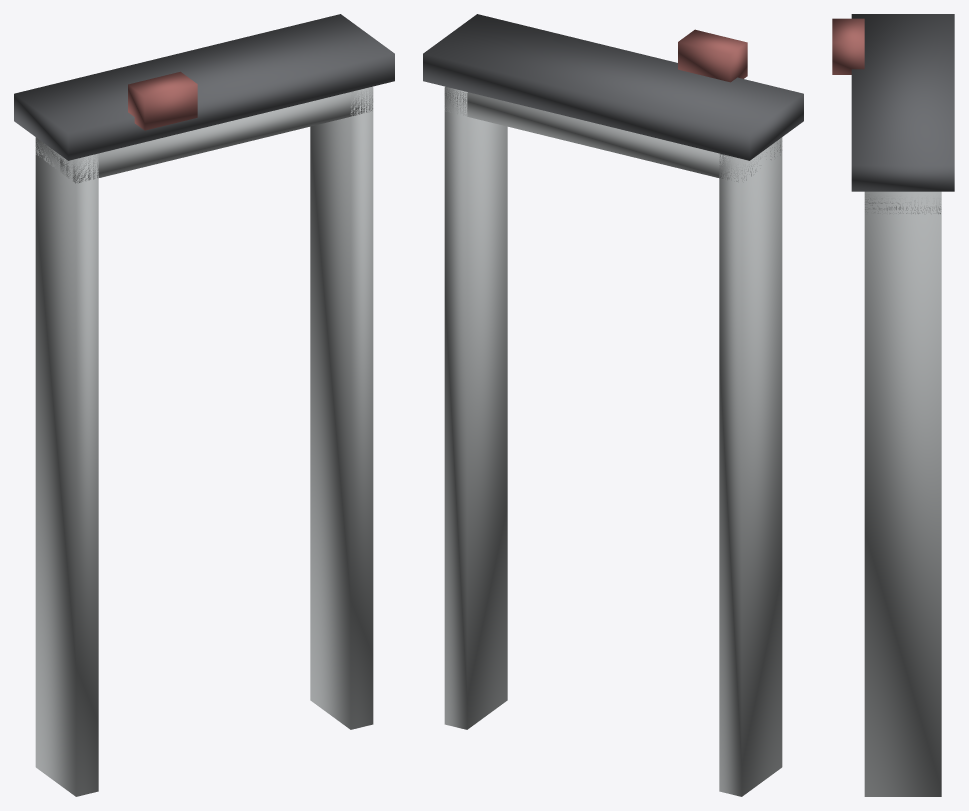
The model's file is doorway_fire_rated_w86_h200_d24.glb.
The picture shows the model from 3 angles, left to right: view 1: azimuth 30°, elevation 25°; view 2: azimuth 150°, elevation 25°; view 3: azimuth 270°, elevation 25°; orthographic projection. The views are drawn at different scales.
Visible parts, largest first — view 1: world; view 2: world; view 3: world.
Boxes of the visible parts, box(x1,y1,x2,y2) form: world: box(14, 14, 394, 796); world: box(423, 14, 803, 796); world: box(832, 14, 954, 796).
Size of the model in its own units: 1.11 by 2.28 by 0.38.
